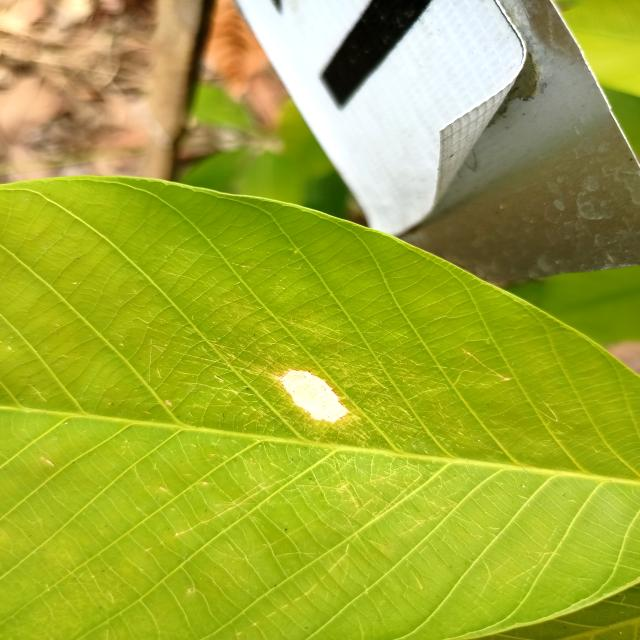Leaf-Blight: (281, 368, 348, 423)
